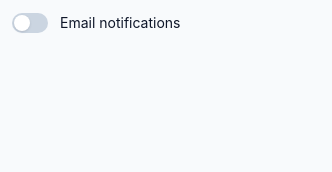
Test: Switch › is a labelled switch that toggles on click
The image size is (332, 172).
Expected: the switch named "Email notifications" is not checked, [12,13,48,33]
Click the text "Email notifications": coordinates (120, 22) [60,12,180,33]
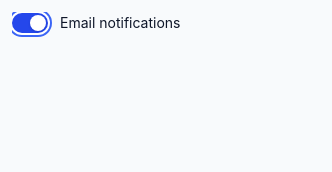
Result: the switch named "Email notifications" is checked at [12,13,48,33]
